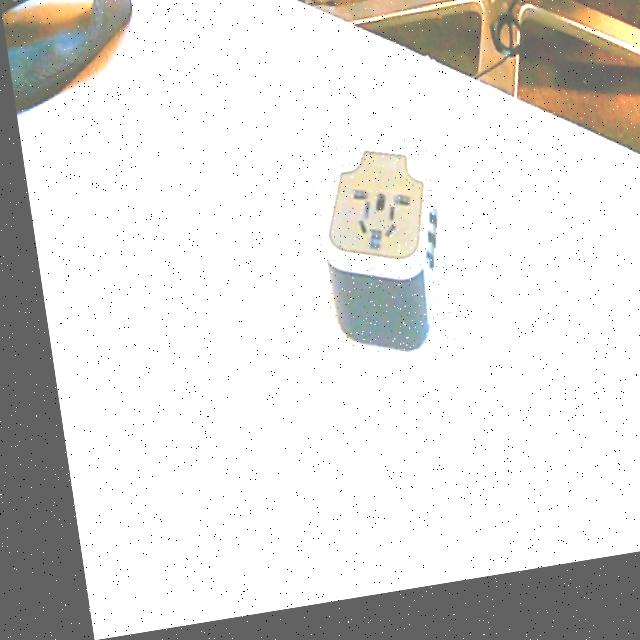adapter: (301, 147, 445, 371)
